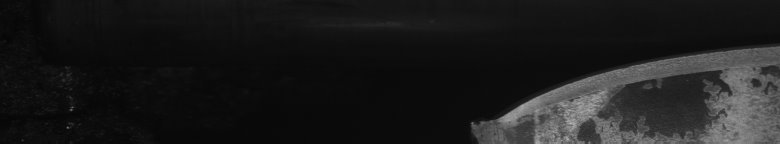kb: (582, 0, 776, 144)
